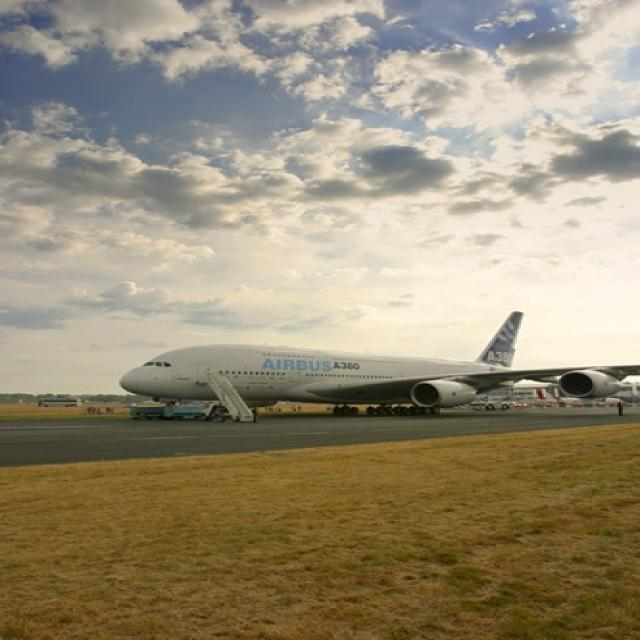aeroplane: (117, 308, 638, 414)
